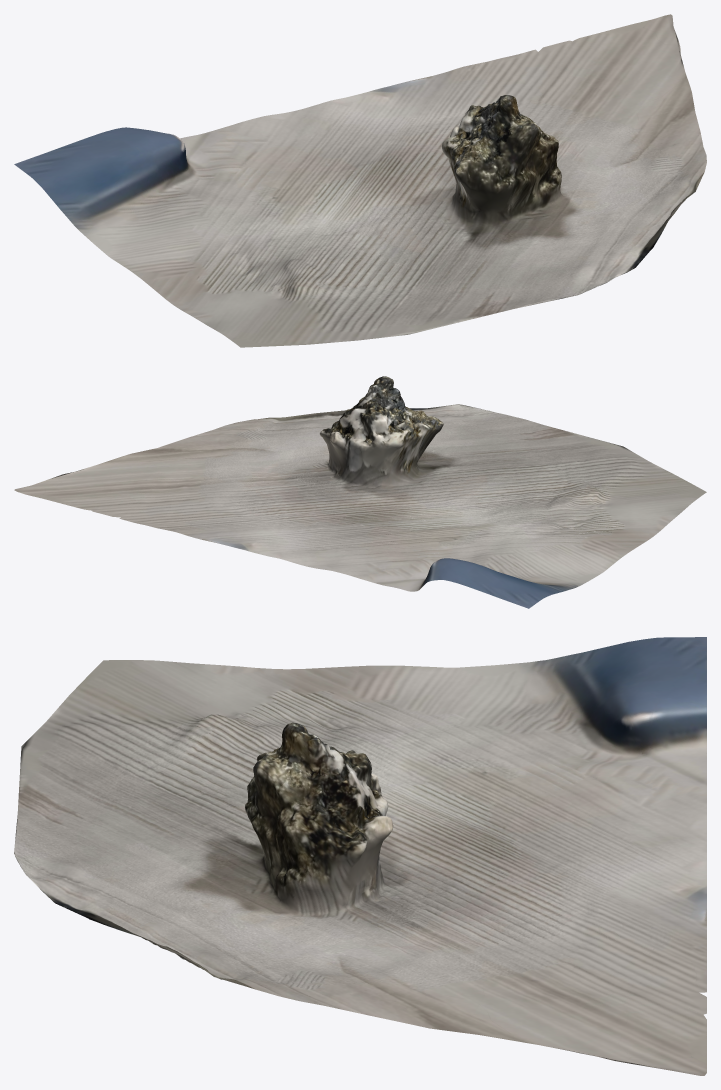
File: 3DModel.glb
3 views of the same model, one above another, from view 1: azimuth 30°, elevation 25°; view 2: azimuth 150°, elevation 25°; view 3: azimuth 270°, elevation 25° (orthographic). The views are drawn at different scales.
Parts seen in each view (by area): view 1: 3DModel; view 2: 3DModel; view 3: 3DModel.
Boxes of the visible parts, <box> form: 3DModel: <box>14,14,706,347</box>; 3DModel: <box>14,376,706,608</box>; 3DModel: <box>14,637,706,1075</box>.
Size of the model in its own units: 2.02 by 0.3625 by 1.39.
1 material, 1 textured.
